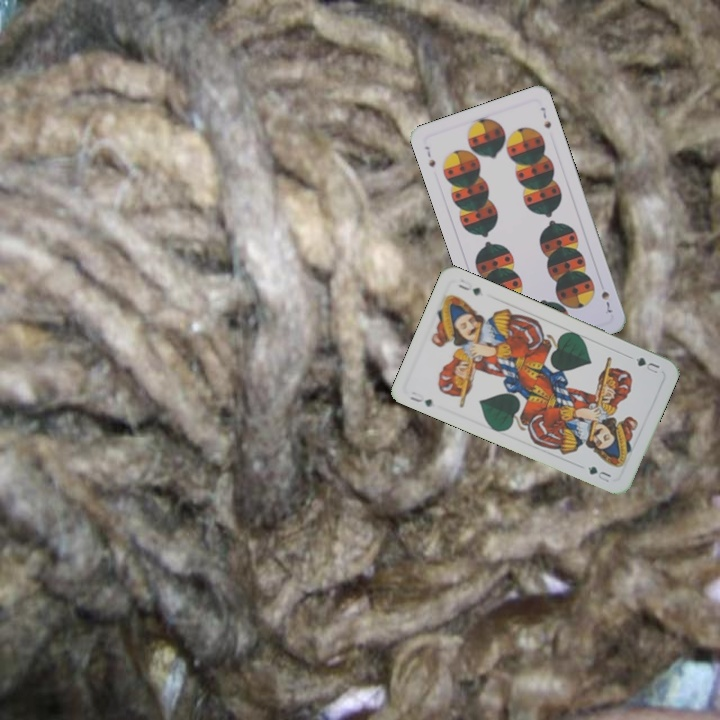GU: (632, 353, 662, 377), (405, 392, 435, 409)
S7: (420, 142, 438, 170), (597, 287, 614, 315)
